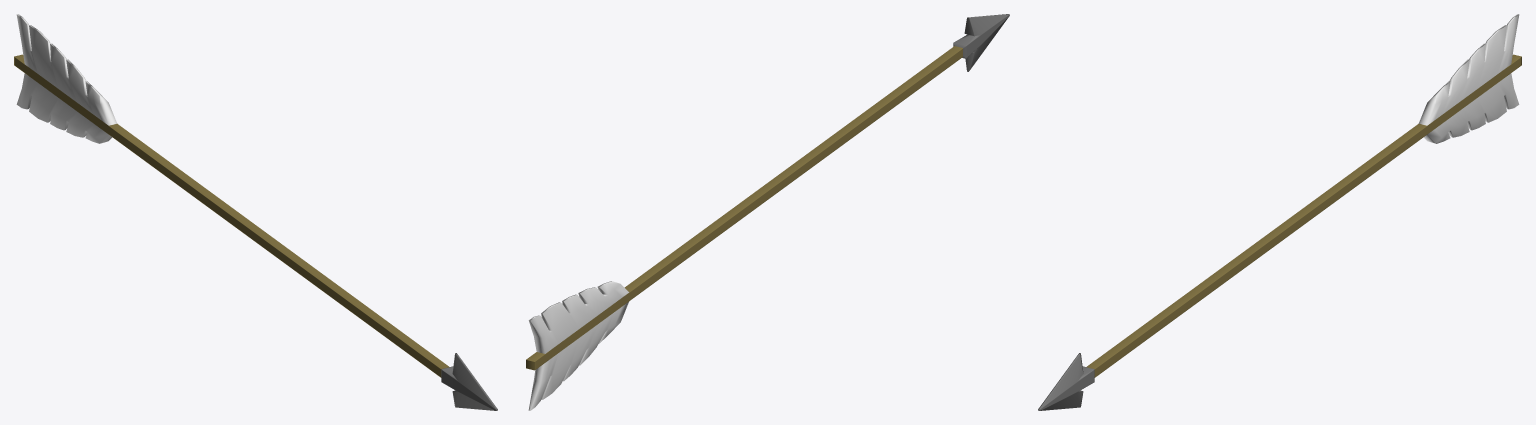
File: Arrow.fbx
The picture shows the model from 3 angles, left to right: view 1: azimuth 30°, elevation 25°; view 2: azimuth 150°, elevation 25°; view 3: azimuth 330°, elevation 25°; orthographic projection.
Visible parts, largest first — view 1: Wood4, Feathers3, Feathers2, Wood3, Wood1, Tip3, Tip2; view 2: Wood4, Feathers3, Feathers2, Wood3, Wood1, Tip3, Tip2; view 3: Wood1, Feathers, Feathers1, Wood2, Wood4, Tip, Tip1.
Boxes of the visible parts, left/top/right/bottom form: Wood4: left=14, top=55, right=445, bottom=373; Feathers3: left=16, top=14, right=112, bottom=125; Feathers2: left=16, top=73, right=109, bottom=143; Wood3: left=14, top=61, right=441, bottom=377; Wood1: left=19, top=54, right=449, bottom=367; Tip3: left=441, top=353, right=496, bottom=410; Tip2: left=441, top=376, right=496, bottom=410; Wood4: left=530, top=47, right=962, bottom=365; Feathers3: left=529, top=281, right=628, bottom=353; Feathers2: left=529, top=302, right=628, bottom=410; Wood3: left=530, top=53, right=962, bottom=370; Wood1: left=526, top=46, right=958, bottom=364; Tip3: left=959, top=14, right=1009, bottom=52; Tip2: left=962, top=15, right=1009, bottom=71; Wood1: left=1090, top=55, right=1521, bottom=373; Feathers: left=1423, top=14, right=1519, bottom=125; Feathers1: left=1426, top=73, right=1519, bottom=143; Wood2: left=1094, top=61, right=1521, bottom=377; Wood4: left=1086, top=54, right=1516, bottom=367; Tip: left=1039, top=353, right=1094, bottom=410; Tip1: left=1039, top=376, right=1094, bottom=410.
Bounding box in the file's own units: 2.58 × 17.45 × 168.
